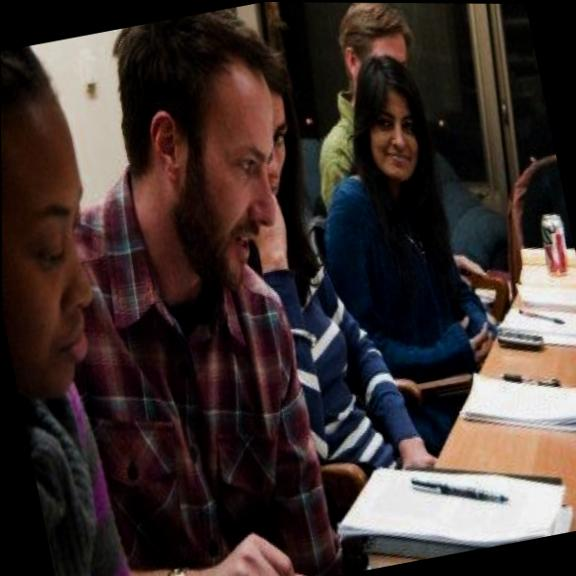no_safety_vest: (48, 252, 332, 567), (323, 166, 470, 380)
